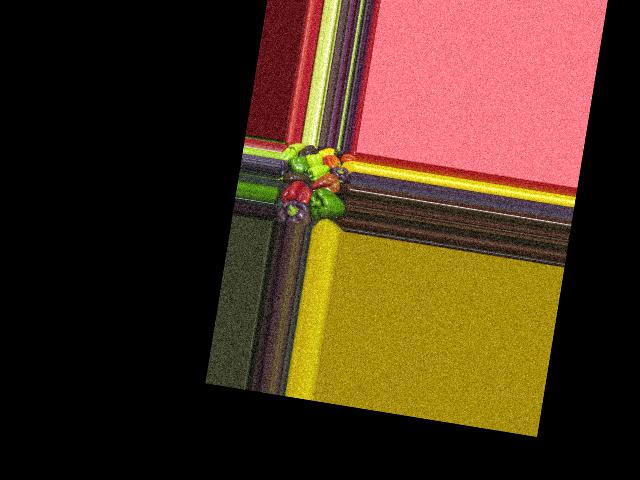bell_pepper: (329, 162, 352, 183)
